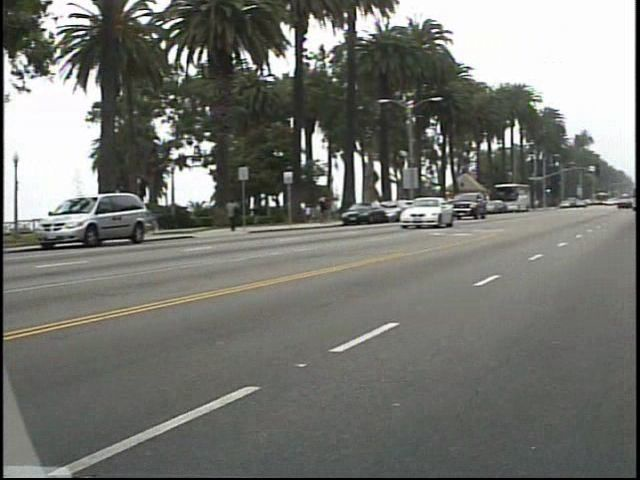person: (230, 192, 252, 231), (322, 189, 341, 224)
